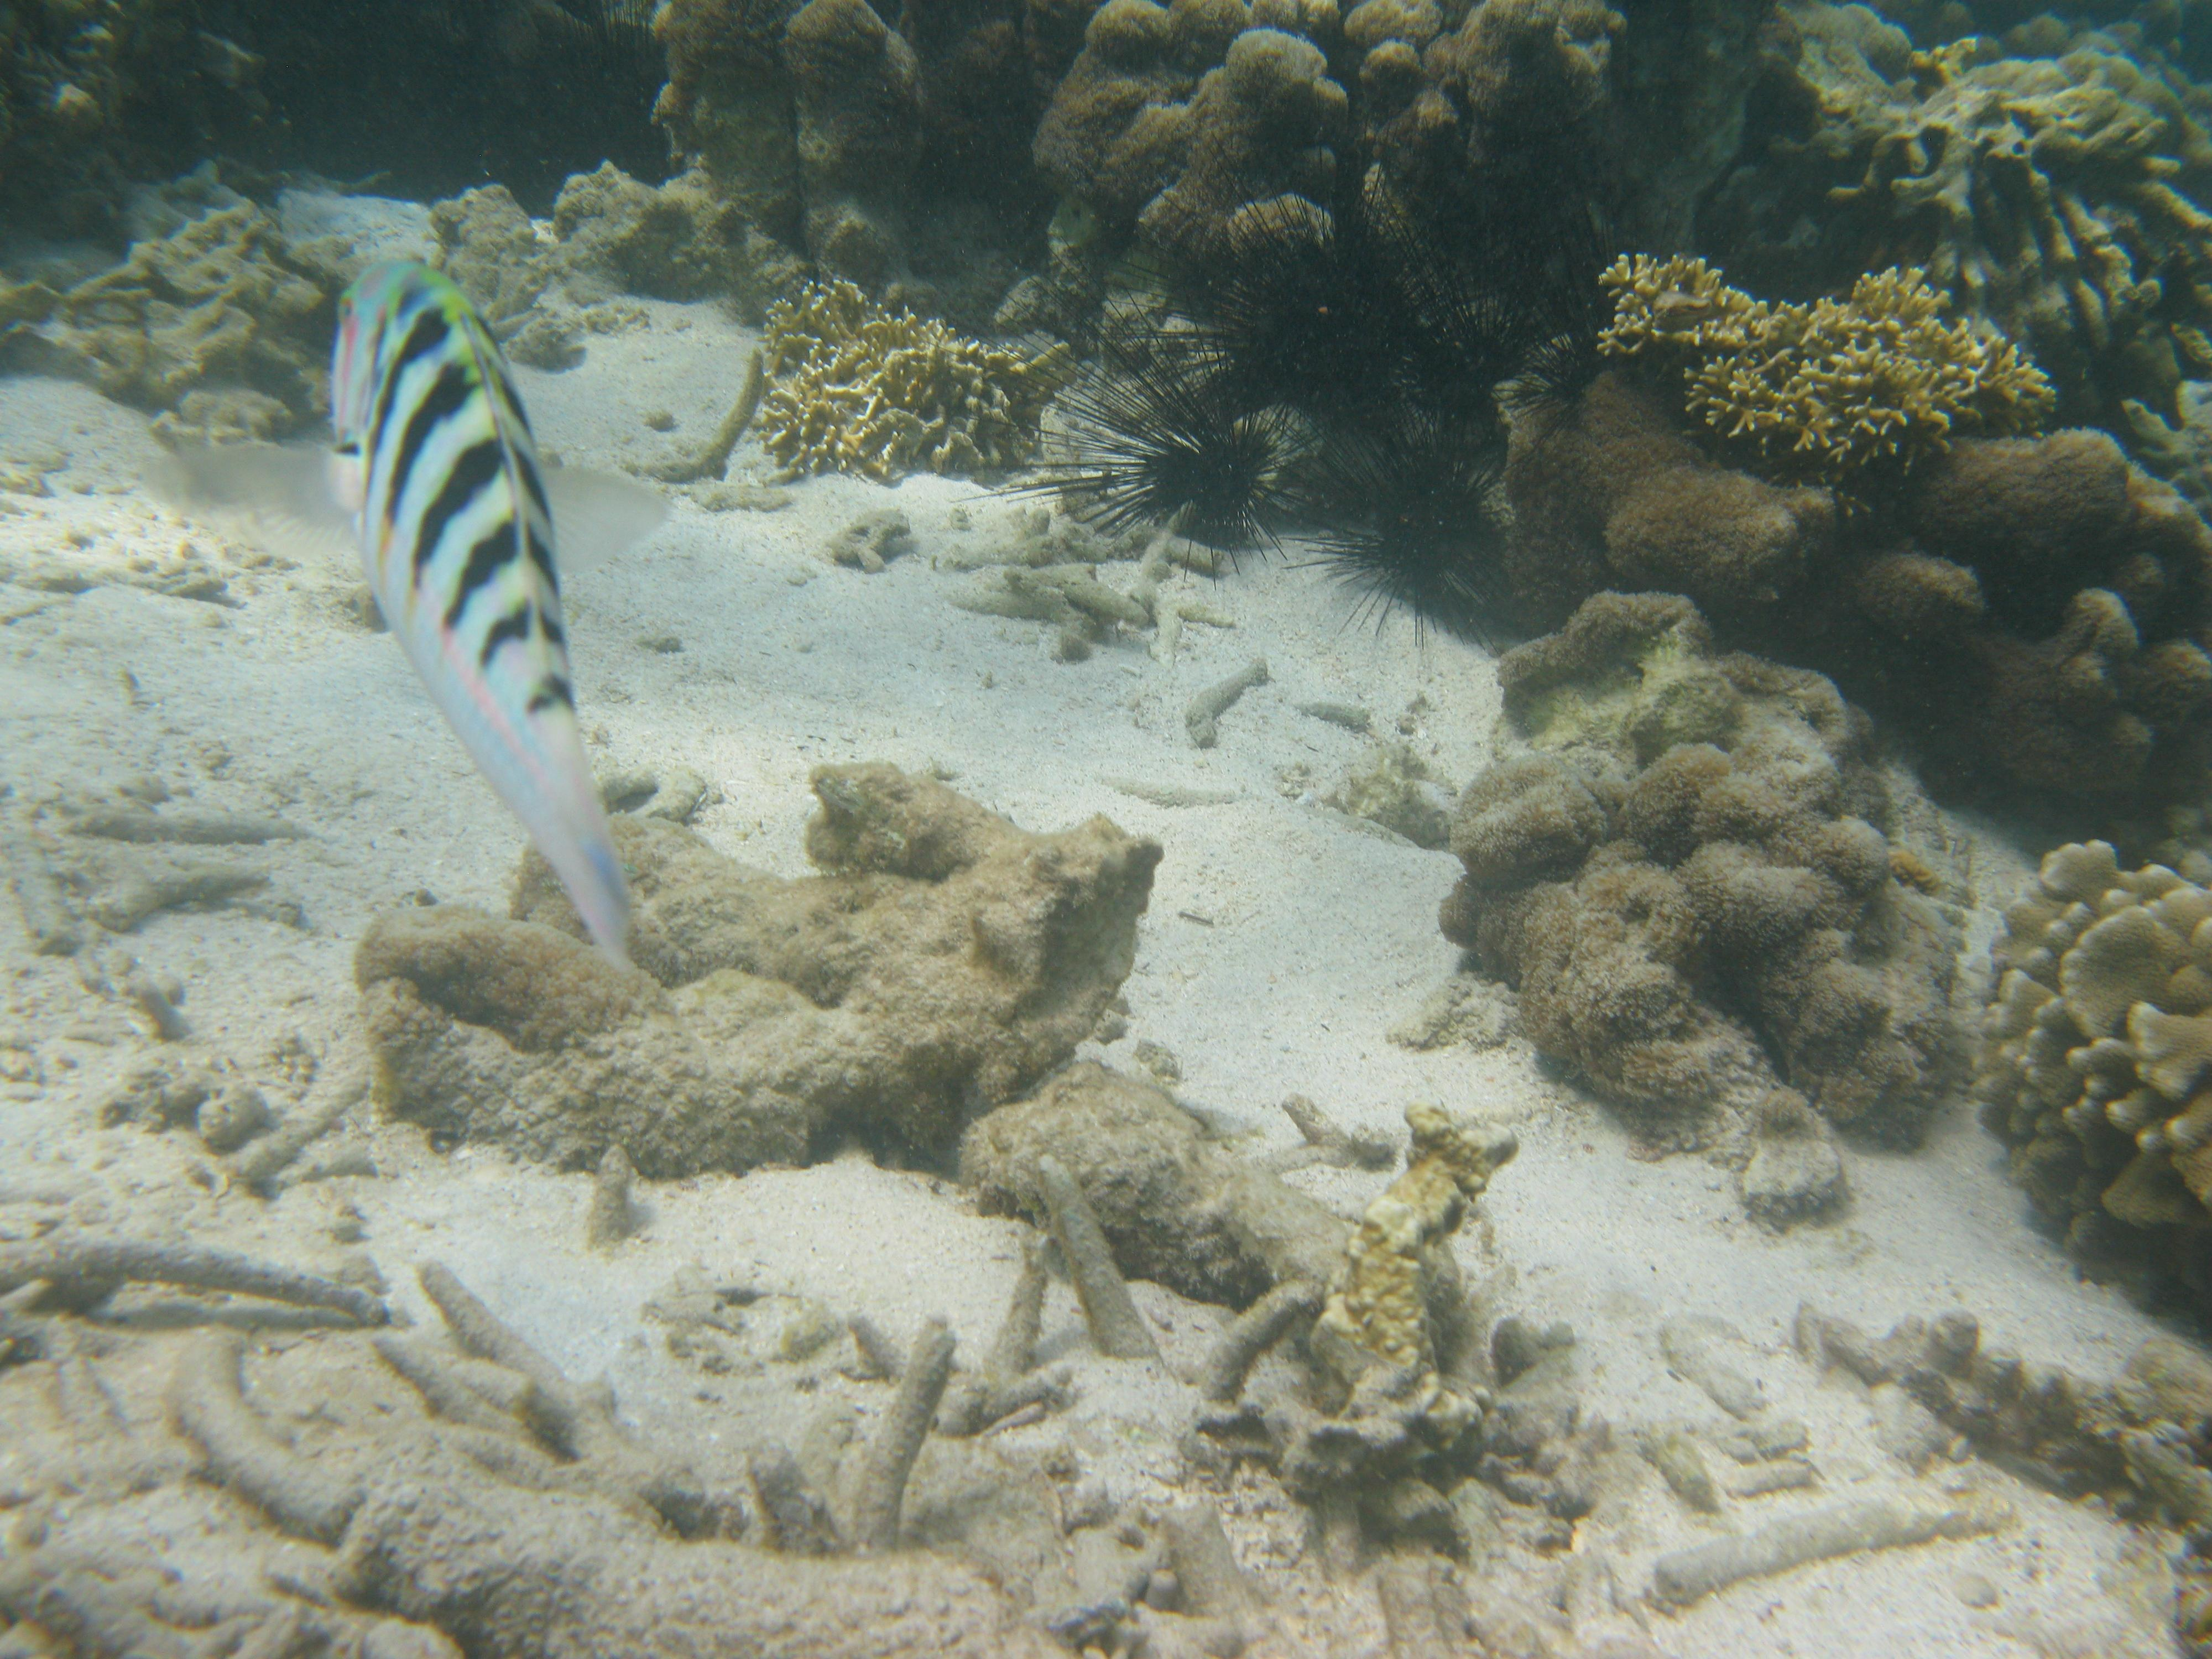Fish: (263, 190, 796, 1066)
